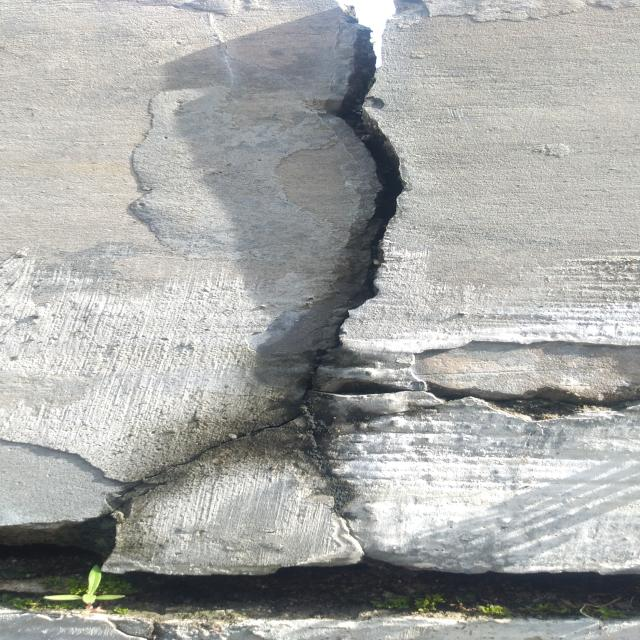Crack: (128, 3, 426, 491)
